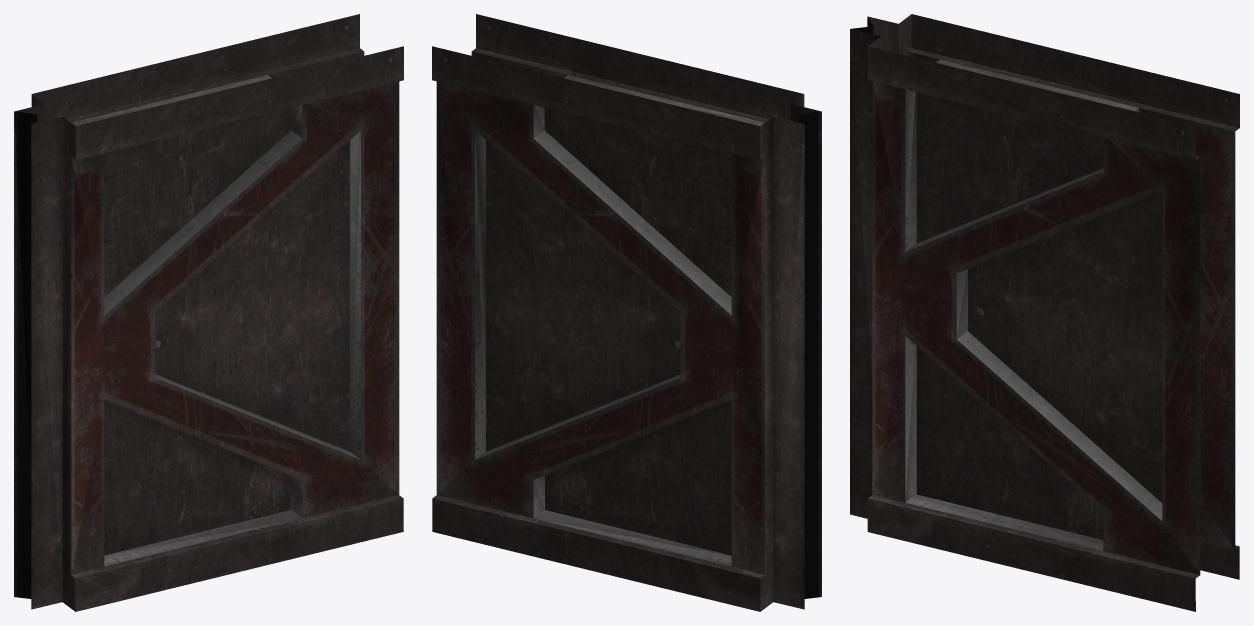
The model's file is Door_ContLeft.fbx.
3 renders of one model, left to right at view 1: azimuth 30°, elevation 25°; view 2: azimuth 150°, elevation 25°; view 3: azimuth 330°, elevation 25°, orthographic.
Visible parts, largest first — view 1: Door_ContLeft; view 2: Door_ContLeft; view 3: Door_ContLeft.
Boxes of the visible parts, x1,y1,x2,y2 form: Door_ContLeft: [14, 14, 403, 611]; Door_ContLeft: [432, 14, 821, 611]; Door_ContLeft: [850, 14, 1239, 611].
Bounding box in the file's own units: 2.44 × 3.16 × 0.5185.
